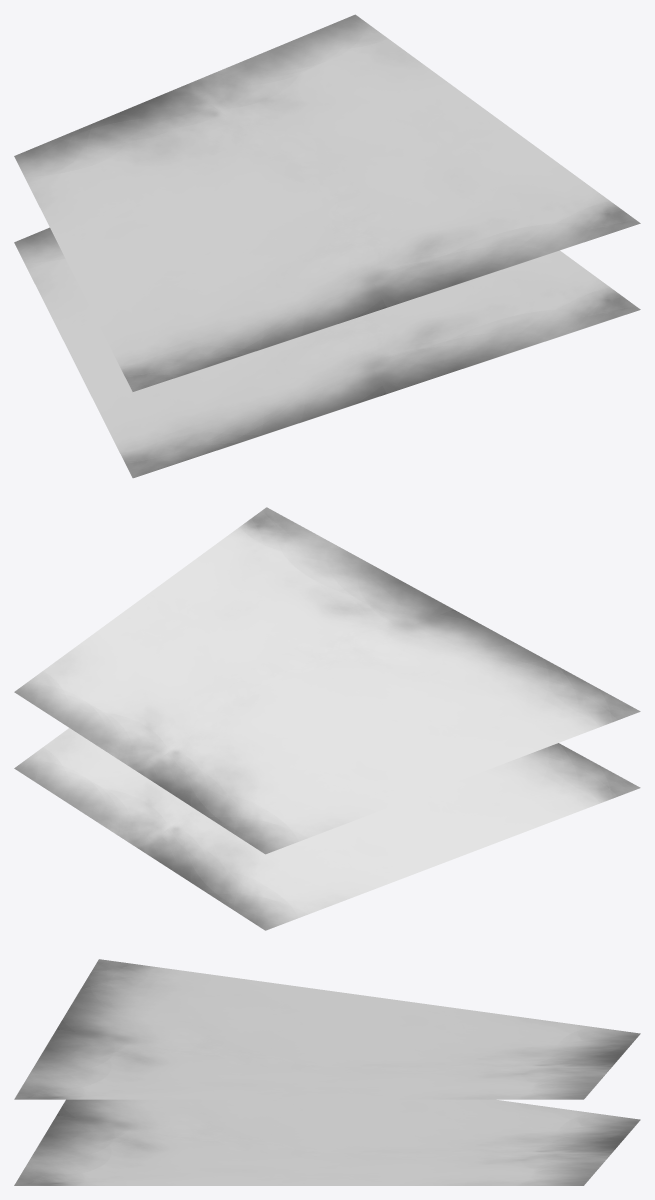
The model's file is CourseWinter_CurveFloor_6_16.fbx.
3 renders of one model, top to bottom at view 1: azimuth 30°, elevation 25°; view 2: azimuth 150°, elevation 25°; view 3: azimuth 270°, elevation 25°, orthographic. The views are drawn at different scales.
Parts seen in each view (by area): view 1: polySurface689; view 2: polySurface689; view 3: polySurface689.
Boxes of the visible parts, <box> form: polySurface689: <box>14,14,640,478</box>; polySurface689: <box>14,507,640,930</box>; polySurface689: <box>14,959,640,1185</box>.
Size of the model in its own units: 5.65 by 2 by 6.6.
Materials: 1 (1 with a texture image).
